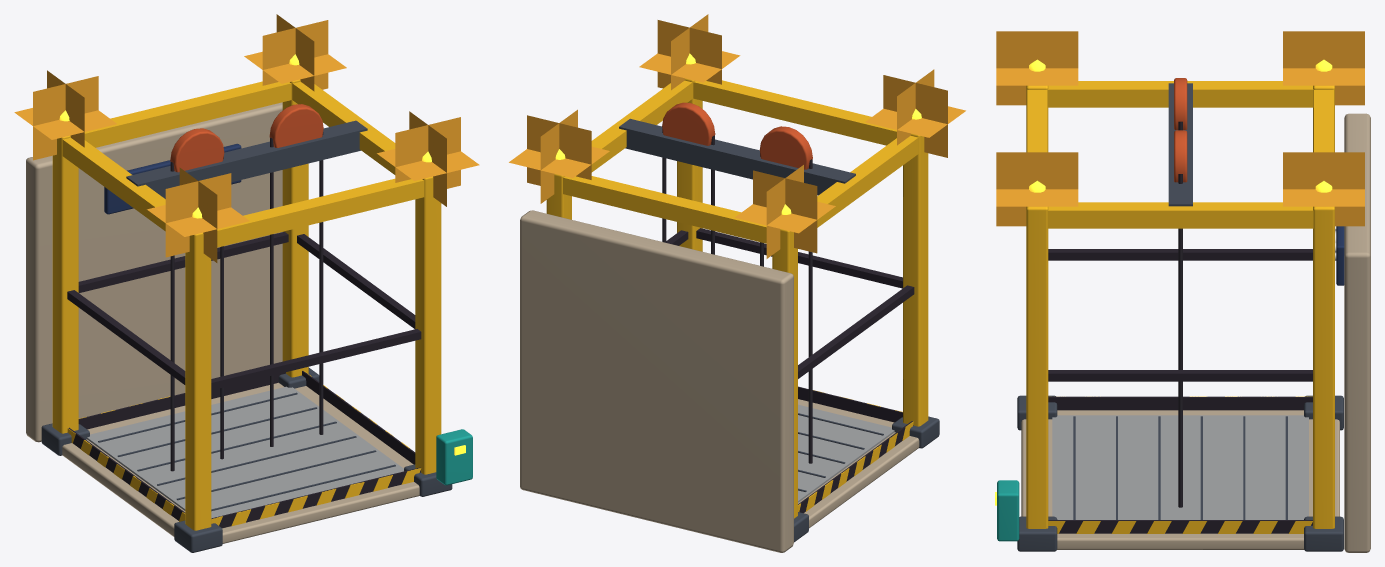
The model's file is dune_cargo_lift.glb.
3 views of the same model, side by side, from view 1: azimuth 30°, elevation 25°; view 2: azimuth 150°, elevation 25°; view 3: azimuth 270°, elevation 25° (orthographic). The views are drawn at different scales.
Visible parts, largest first — view 1: CargoLift; view 2: CargoLift; view 3: CargoLift.
Part boxes in pixels (x1,y1,x2,y2): CargoLift: [14, 14, 479, 552]; CargoLift: [509, 14, 965, 552]; CargoLift: [995, 31, 1370, 552].
Bounding box in the file's own units: 8.33 × 9.77 × 8.5.
